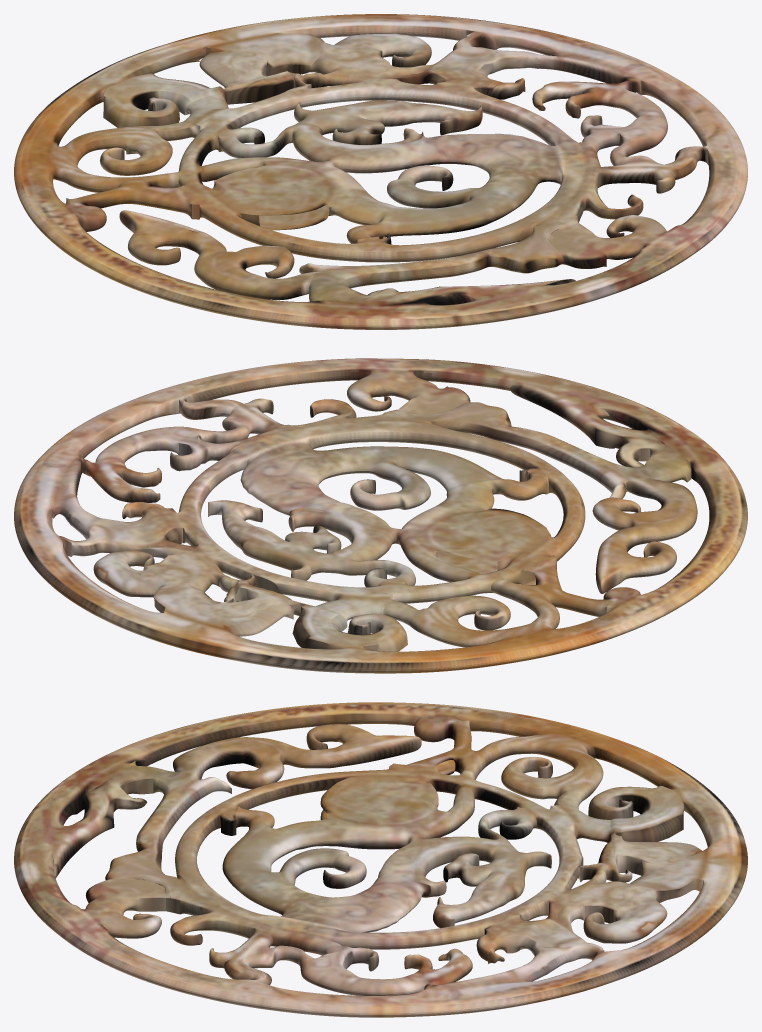
3 views of the same model, one above another, from view 1: azimuth 30°, elevation 25°; view 2: azimuth 150°, elevation 25°; view 3: azimuth 270°, elevation 25° (orthographic).
Visible parts, largest first — view 1: 圆环; view 2: 圆环; view 3: 圆环.
Part boxes in pixels (x1=…): 圆环: x1=14, y1=14, x2=747, y2=329; 圆环: x1=14, y1=358, x2=747, y2=673; 圆环: x1=14, y1=702, x2=747, y2=1017.
Size of the model in its own units: 196 by 4.91 by 196.
Materials: 1 (1 with a texture image).
